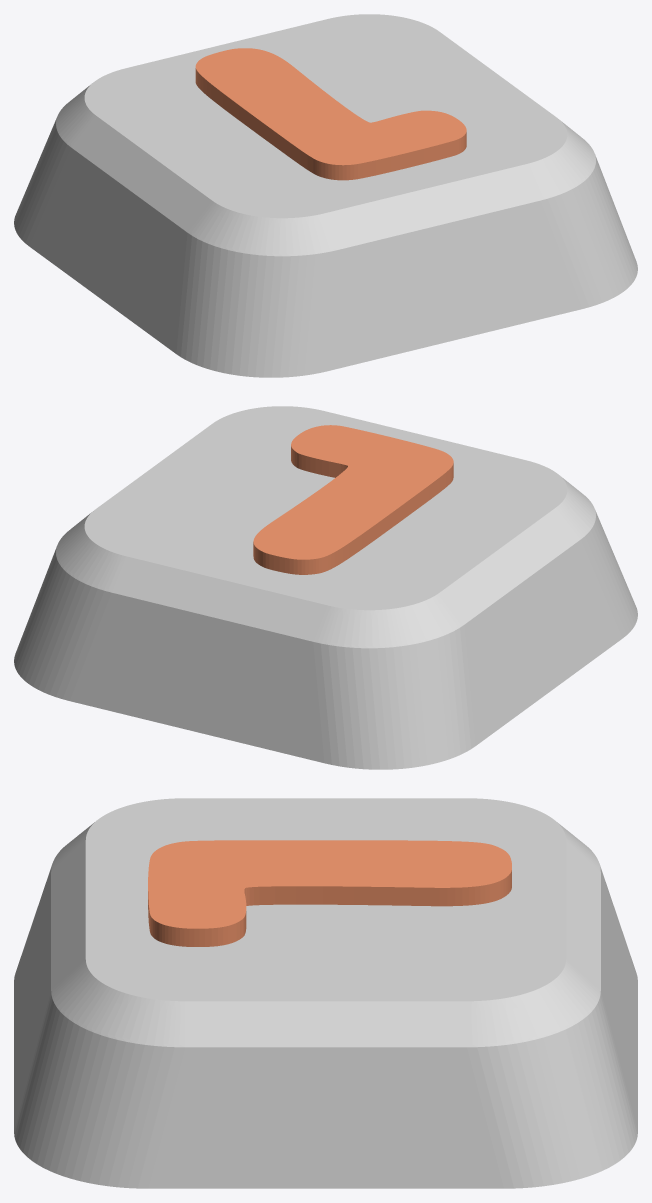
File: cap-L.glb
3 views of the same model, one above another, from view 1: azimuth 30°, elevation 25°; view 2: azimuth 150°, elevation 25°; view 3: azimuth 270°, elevation 25° (orthographic). The views are drawn at different scales.
Visible parts, largest first — view 1: cap_0, glyph_1; view 2: cap_0, glyph_1; view 3: cap_0, glyph_1.
Boxes of the visible parts, <box> form: cap_0: <box>14,14,637,377</box>; glyph_1: <box>195,48,466,180</box>; cap_0: <box>14,406,637,769</box>; glyph_1: <box>253,425,453,574</box>; cap_0: <box>14,798,637,1188</box>; glyph_1: <box>148,840,511,946</box>.
Size of the model in its own units: 18 by 5.59 by 18.
